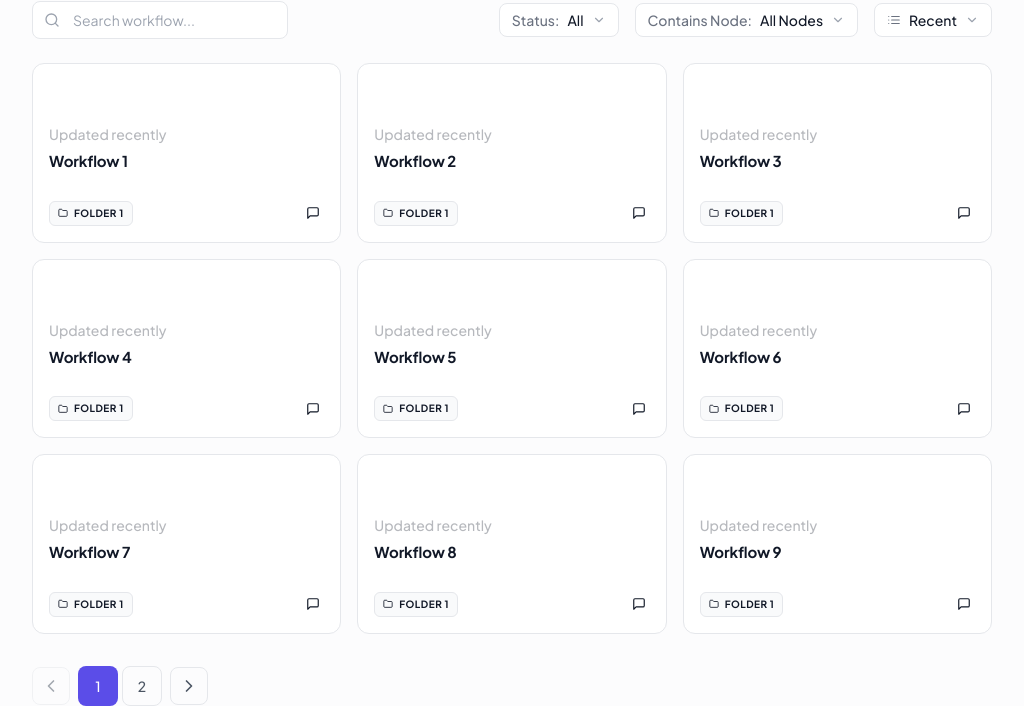
WorkspaceDashboard Pagination › resets to page 1 when filter changes
(page scrolled)
Check: the heading "Workflow 1" is shown, box [49,151,128,170]
Note: Go to page 2
Click the button named "Next page".
click(189, 686)  # box [170,666,208,704]
(page scrolled)
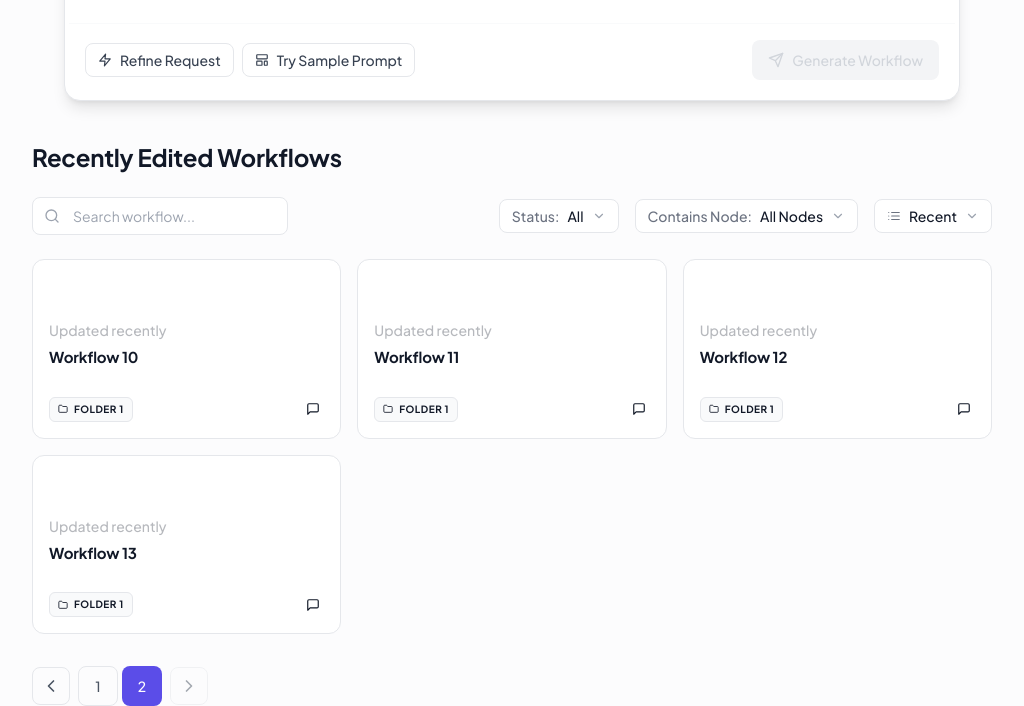
Check: the heading "Workflow 10" is shown, box [49,347,138,366]
Note: Change search filter
Type "Workflow" into the field with placeholder "Search workflow...".
click(160, 216); type("Workflow")  # box [32,197,288,235]
(page scrolled)
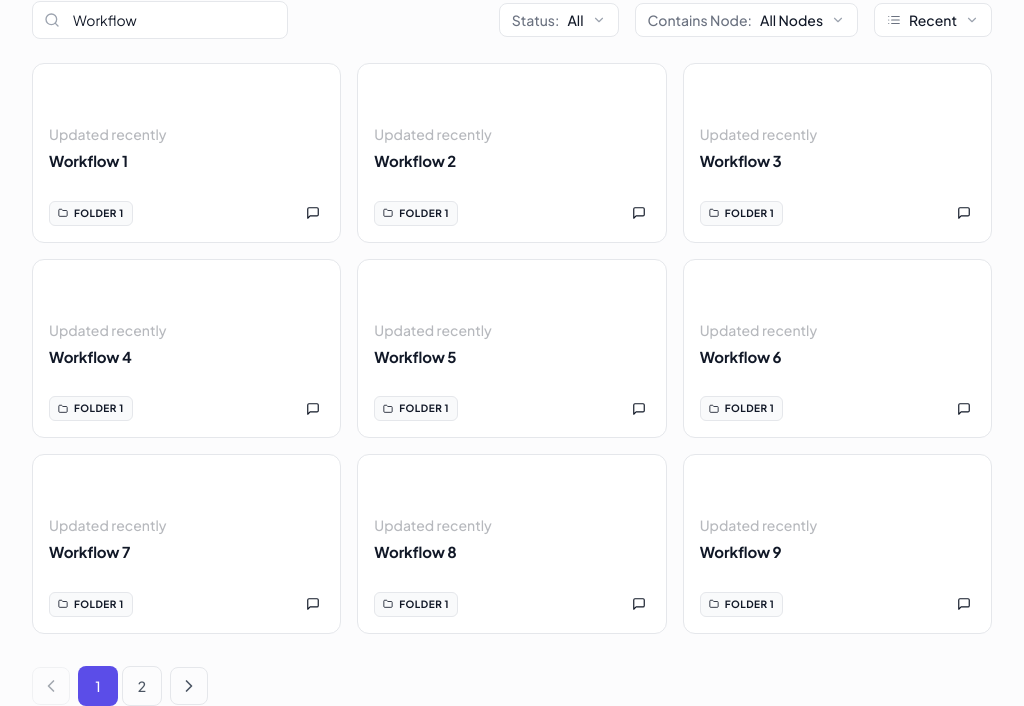
Check: the heading "Workflow 1" is shown, box [49,151,128,170]
Check: the button "Workflow 10" is gone
